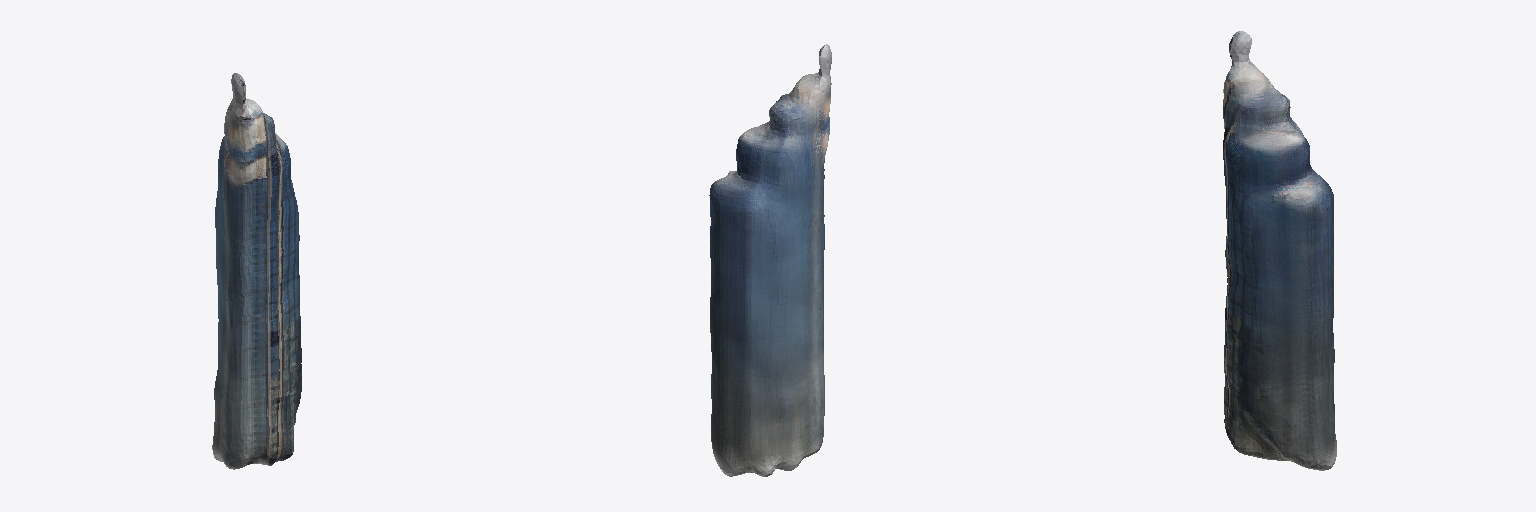
The picture shows the model from 3 angles: view 1: azimuth 30°, elevation 25°; view 2: azimuth 150°, elevation 25°; view 3: azimuth 270°, elevation 25°; orthographic projection.
Size of the model in its own units: 0.2375 by 1.11 by 0.2795.
Materials: 1 (1 with a texture image).